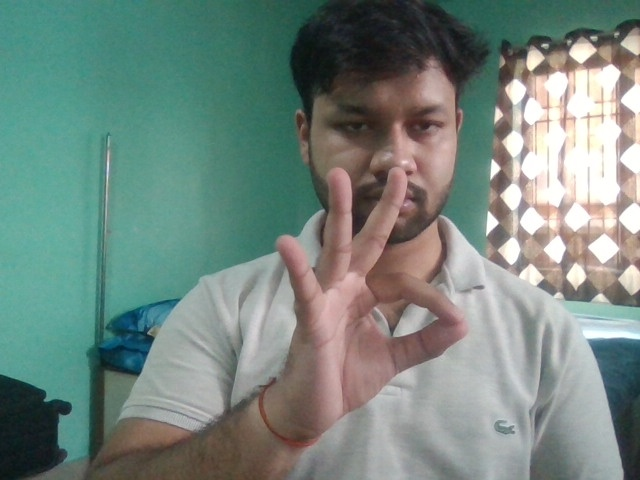Ok: (268, 164, 471, 435)
